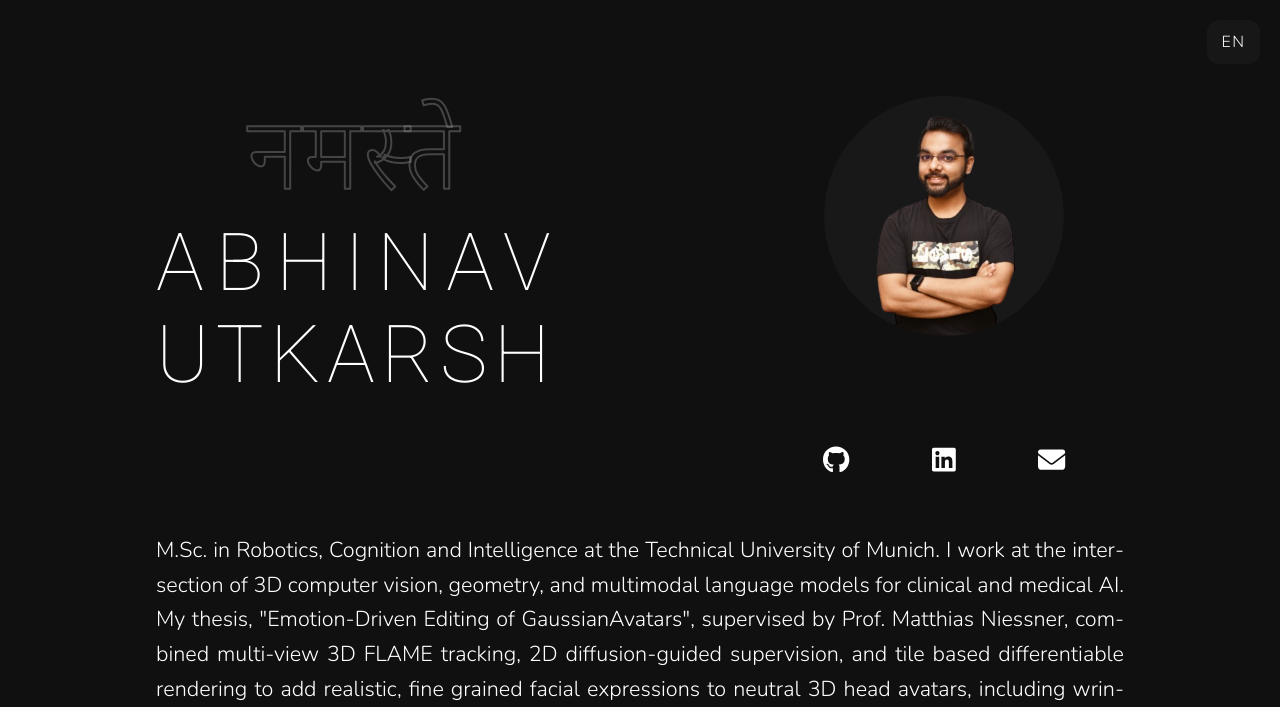
Test: toggle EN -> DE switches language and html lang
Click the button with aria-label "Deutsch" at (1234, 42), box [1207, 20, 1260, 64]
Wait 400 ms
(page scrolled)
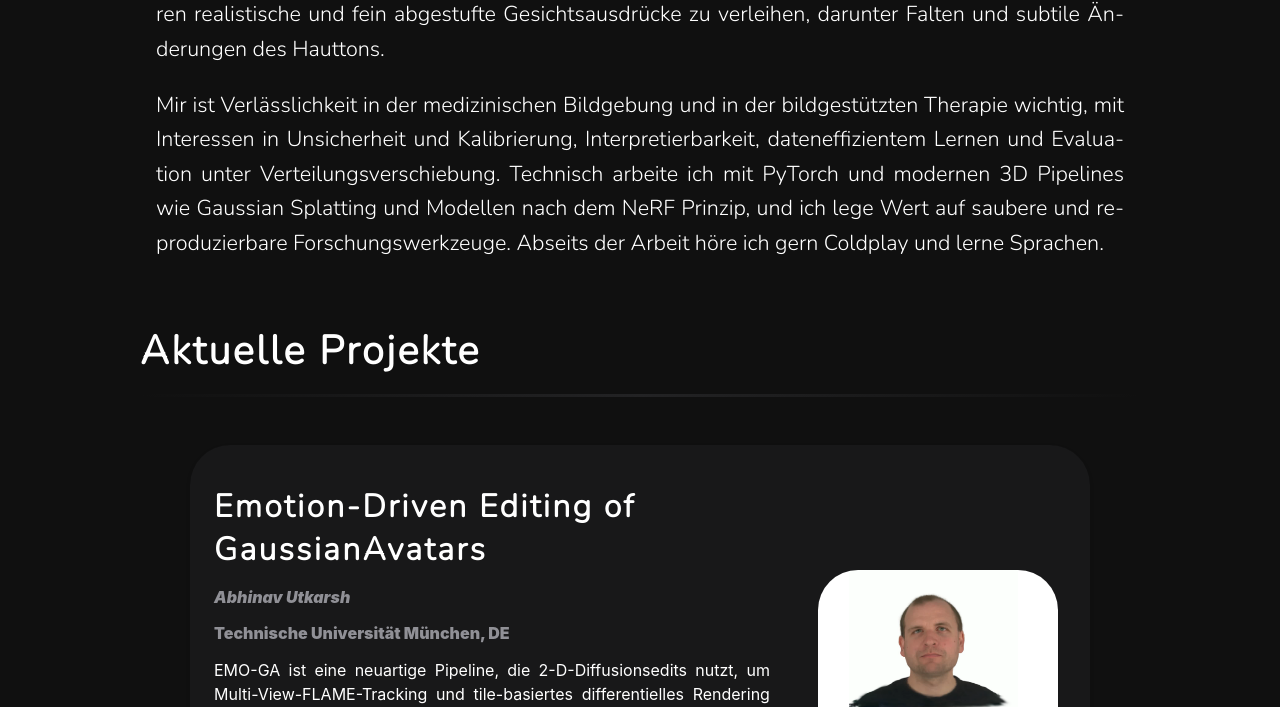
Expected: the heading "Aktuelle Projekte" is shown, [140, 324, 481, 378]
